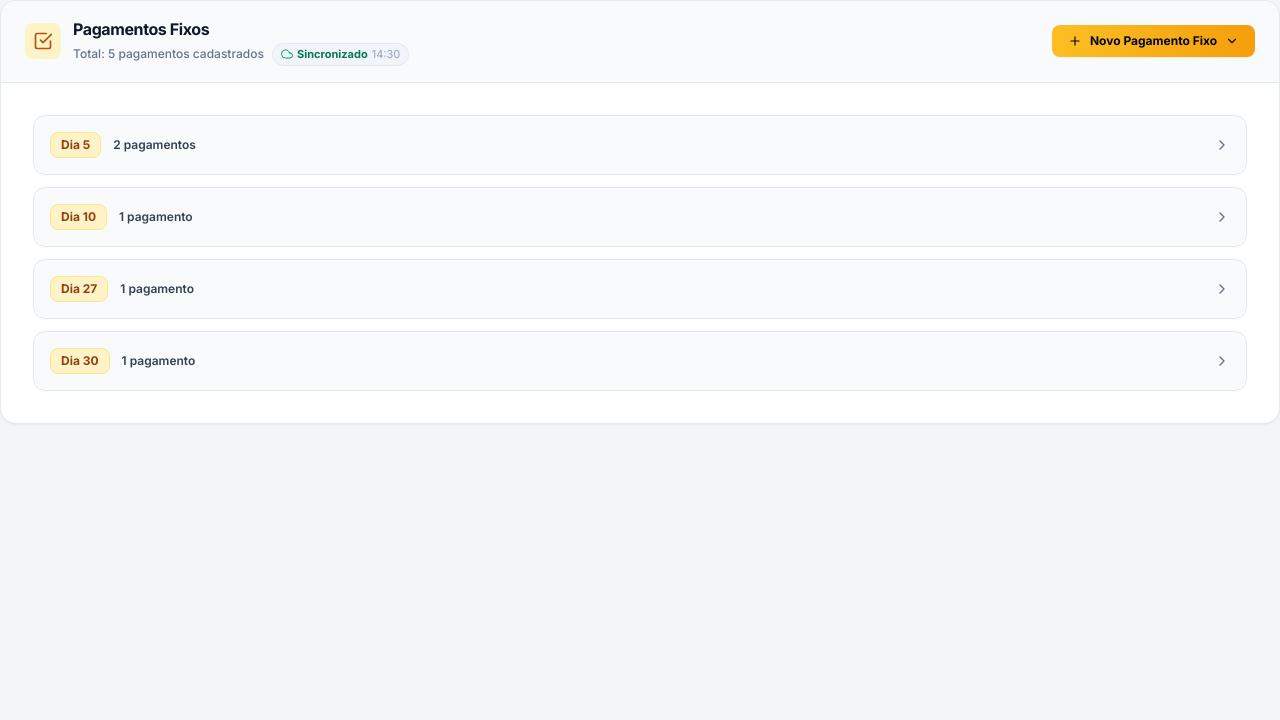
Test case: Pagamentos fixos — editar (exige senha de admin) › salvar atualiza (id + dados), avisa e fecha
Click the button "Dia 5 2 pagamentos" at (76, 144), box 34,116 -> 1246,174
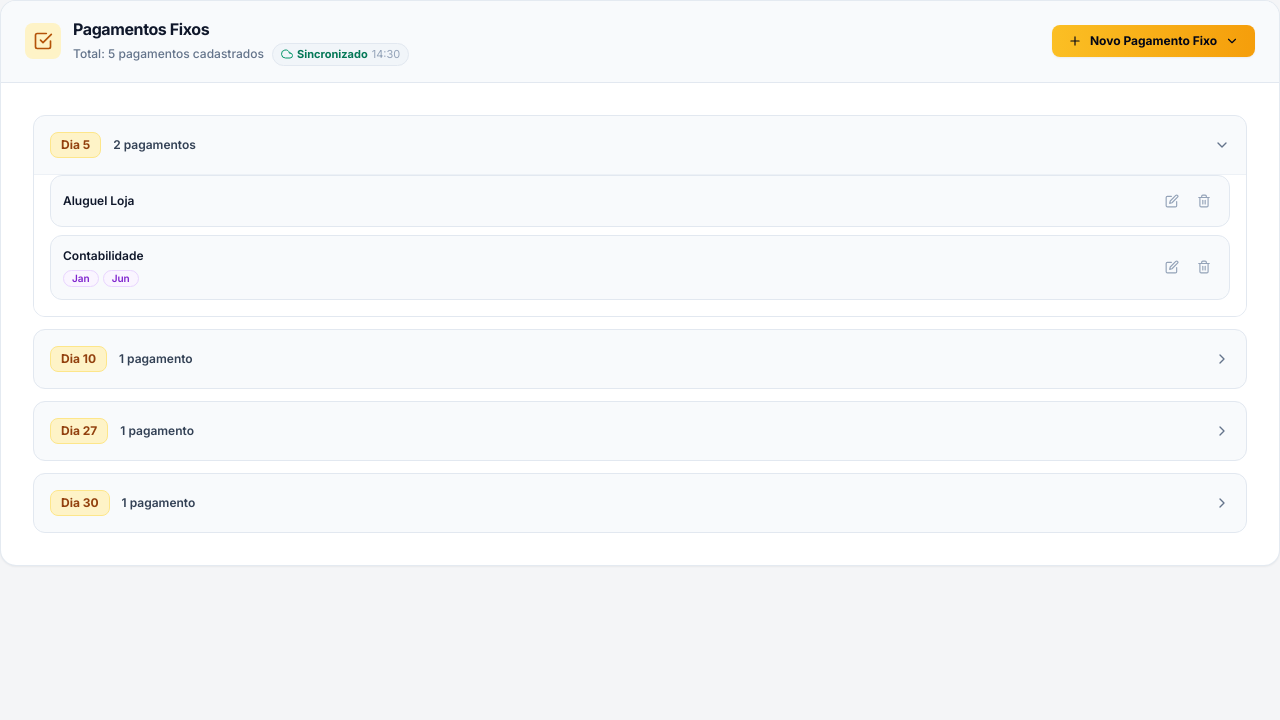
Click the button titled "Editar" in the row of "Contabilidade" at (1172, 267), box 1159,254 -> 1185,280
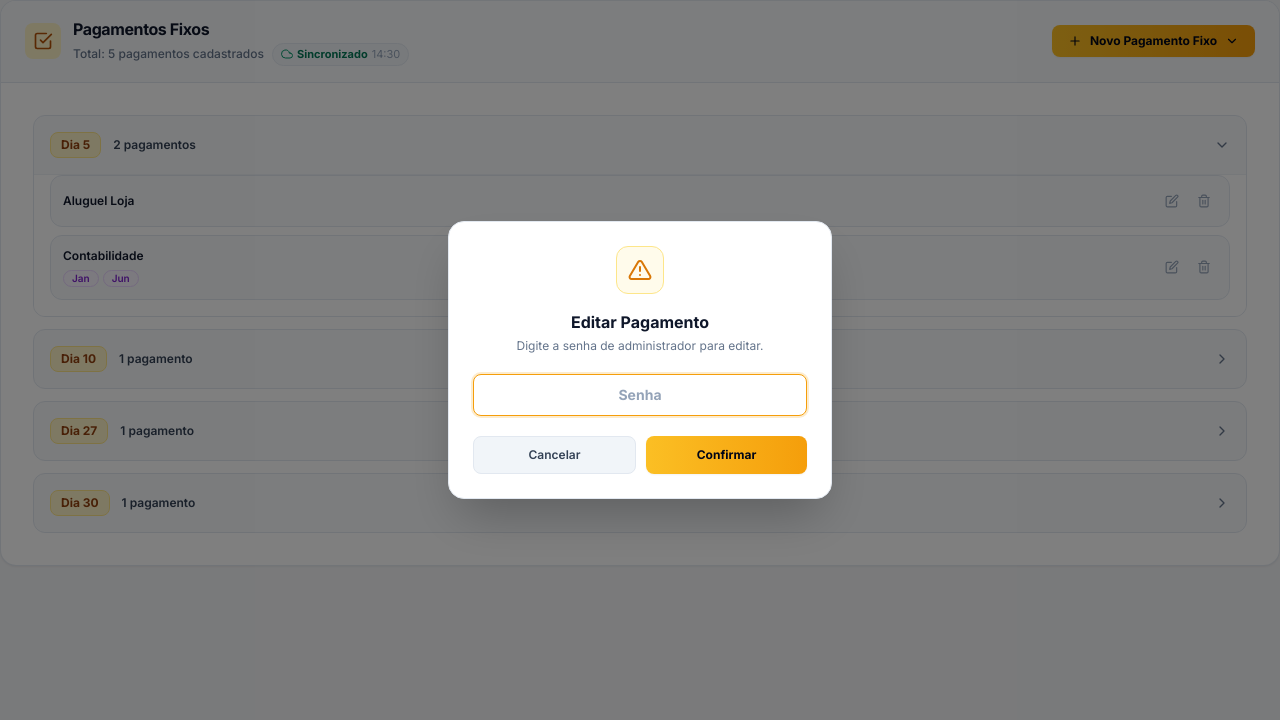
Type "certa" into the password field with placeholder "Senha" at (640, 395), box 473,374 -> 807,416
Click the button "Confirmar" at (726, 455), box 646,436 -> 807,474
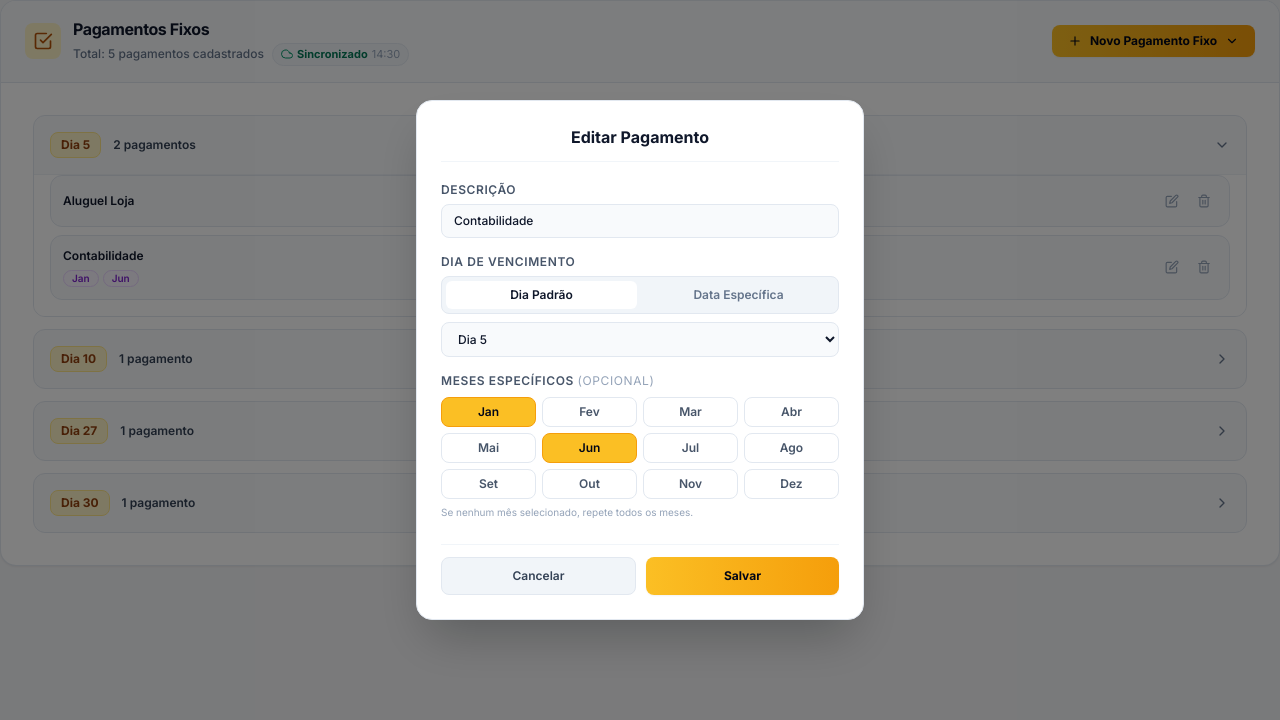
Check: the heading "Editar Pagamento" is shown, box 441,125 -> 839,162
Replace the text in the field with placeholder "Ex: Aluguel Loja Premium" with "Contabilidade Nova" at (640, 221), box 441,204 -> 839,238
Select "Dia 10" in the dropdown at (640, 340), box 441,322 -> 839,357
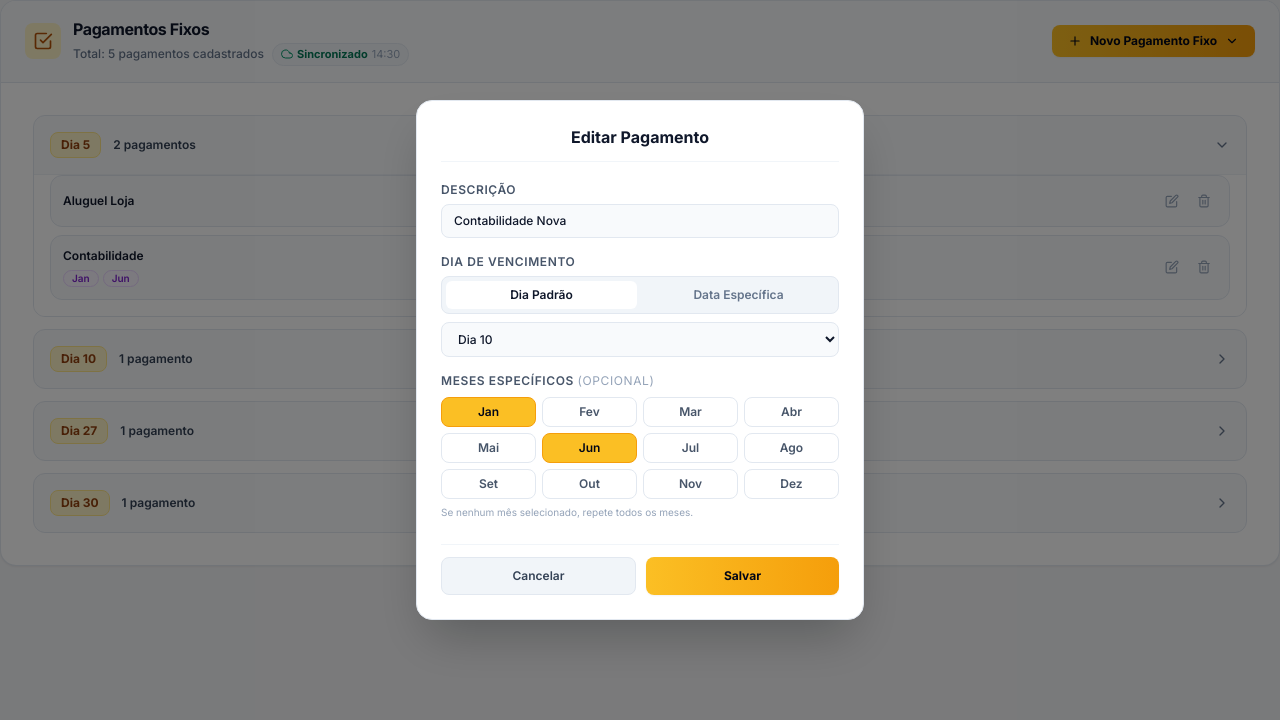
Click the button "Mar" at (690, 412), box 643,397 -> 738,427
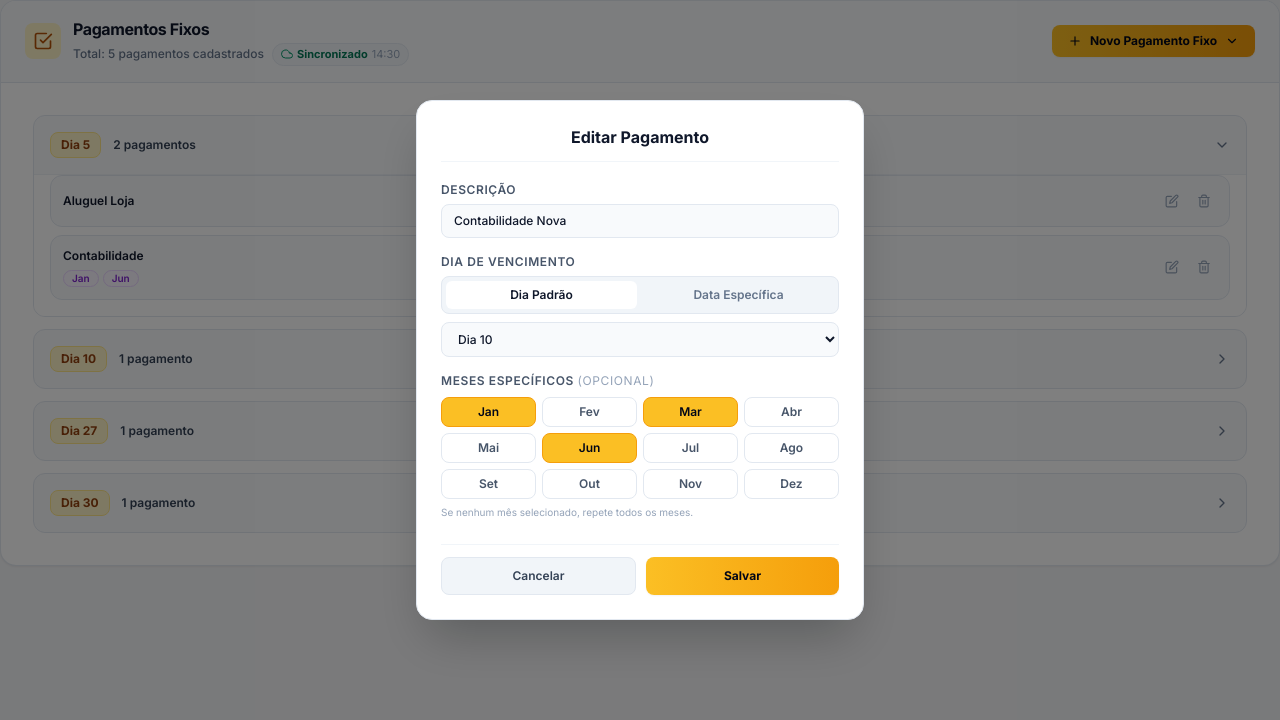
Click the button "Salvar" at (742, 576), box 646,557 -> 839,595
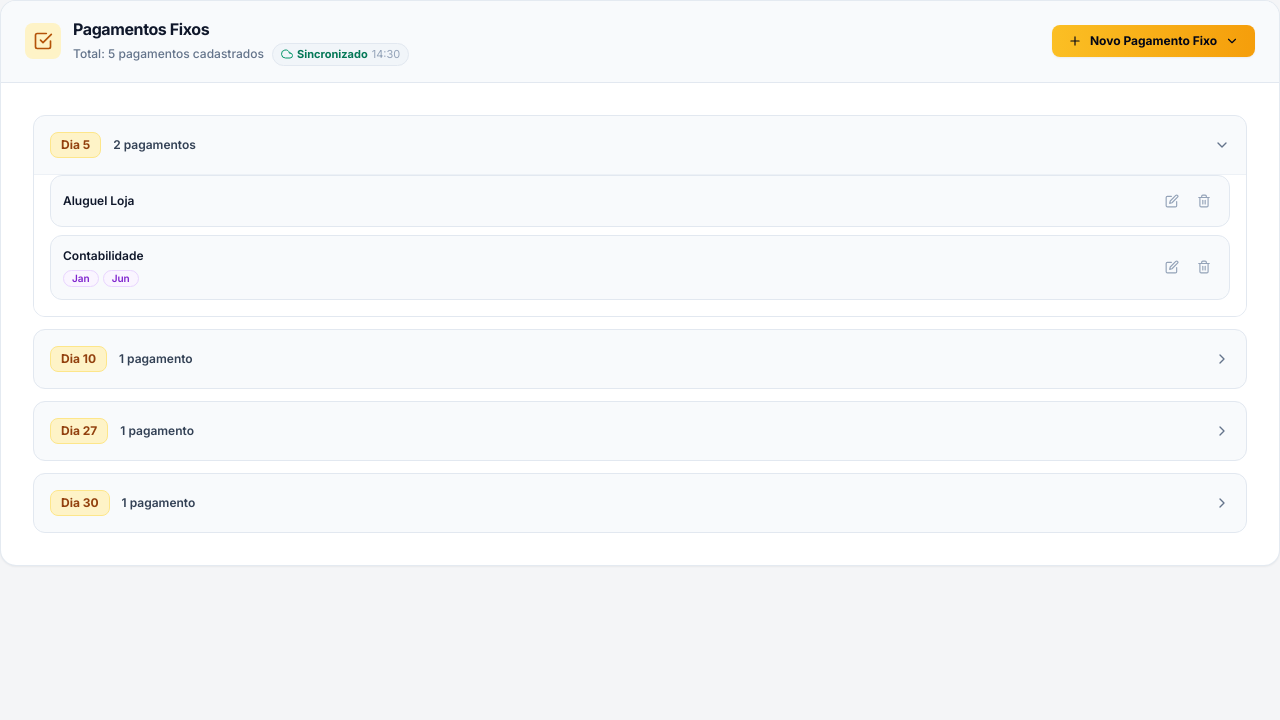
Check: the heading "Editar Pagamento" is gone
